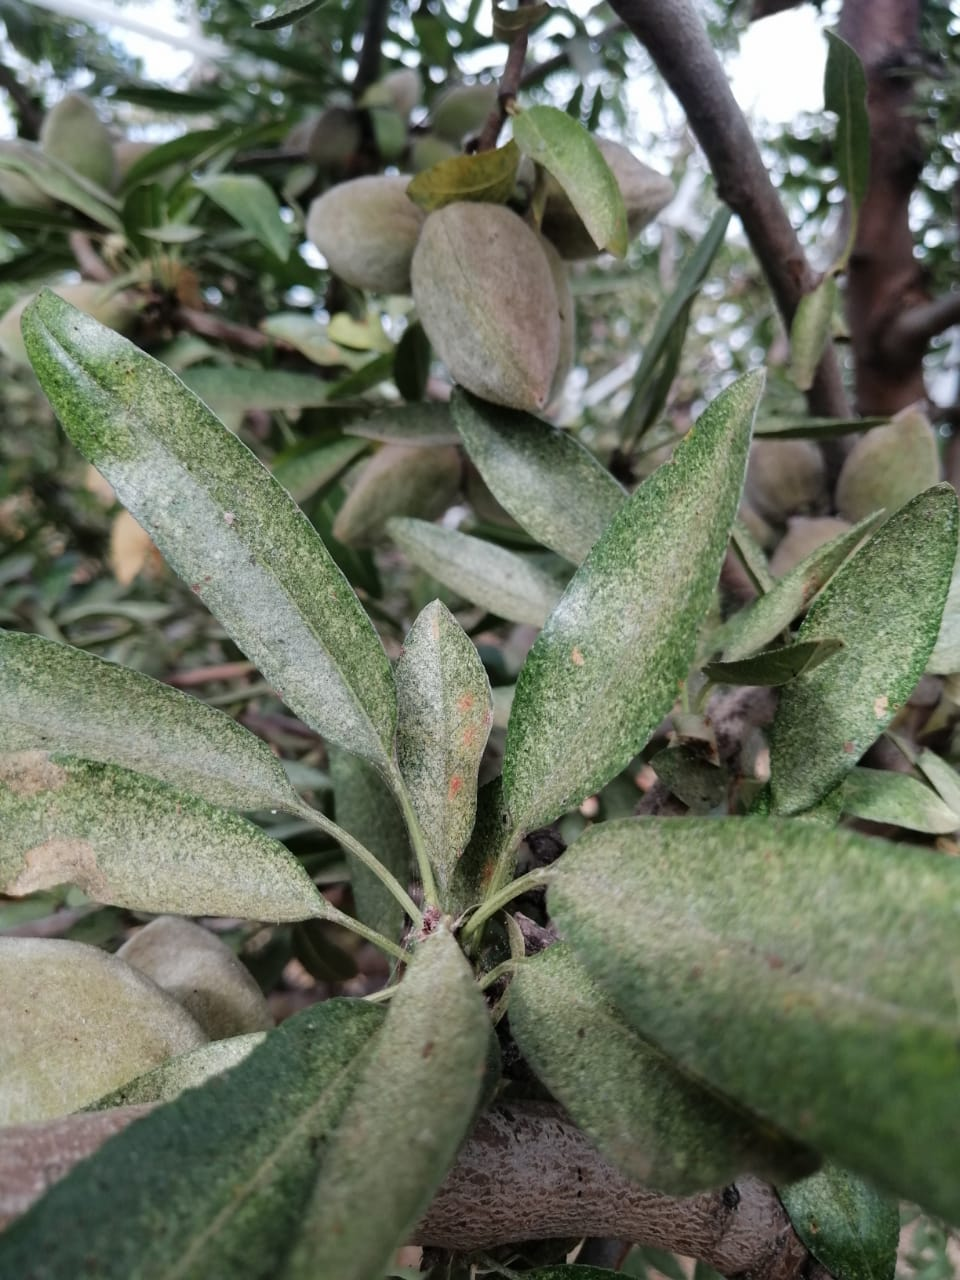acariens: (18, 294, 401, 773), (496, 358, 767, 837), (768, 473, 960, 817), (1, 752, 329, 919), (391, 598, 495, 899)
